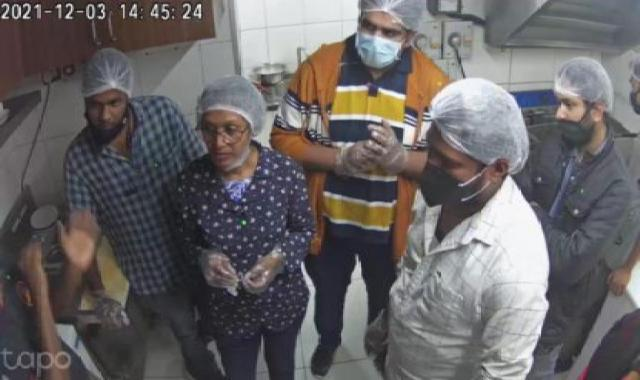hairnet: (418, 73, 528, 175), (188, 71, 260, 134), (550, 55, 616, 123), (62, 45, 136, 98), (345, 0, 436, 36)
